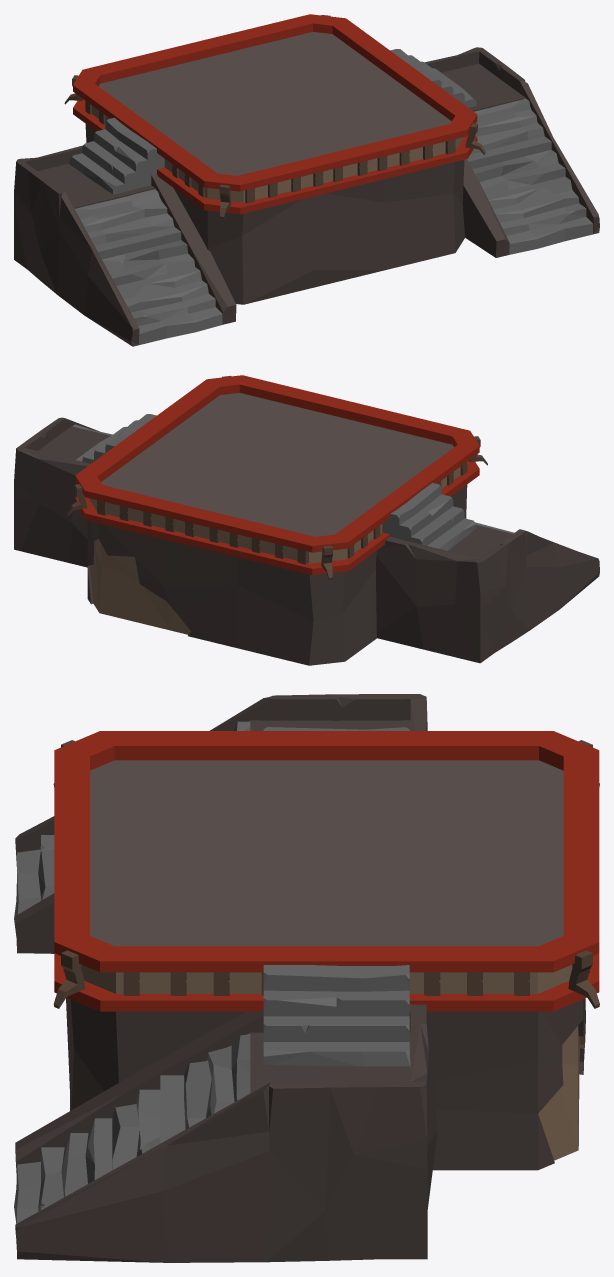
File: Building_5.fbx
3 renders of one model, top to bottom at view 1: azimuth 30°, elevation 25°; view 2: azimuth 150°, elevation 25°; view 3: azimuth 270°, elevation 25°, orthographic. The views are drawn at different scales.
Parts seen in each view (by area): view 1: Building_5; view 2: Building_5; view 3: Building_5.
Boxes of the visible parts, x1,y1,x2,y2 form: Building_5: (14, 14, 599, 346); Building_5: (14, 375, 599, 665); Building_5: (14, 694, 599, 1262).
Bounding box in the file's own units: 11.95 × 3 × 7.39.
